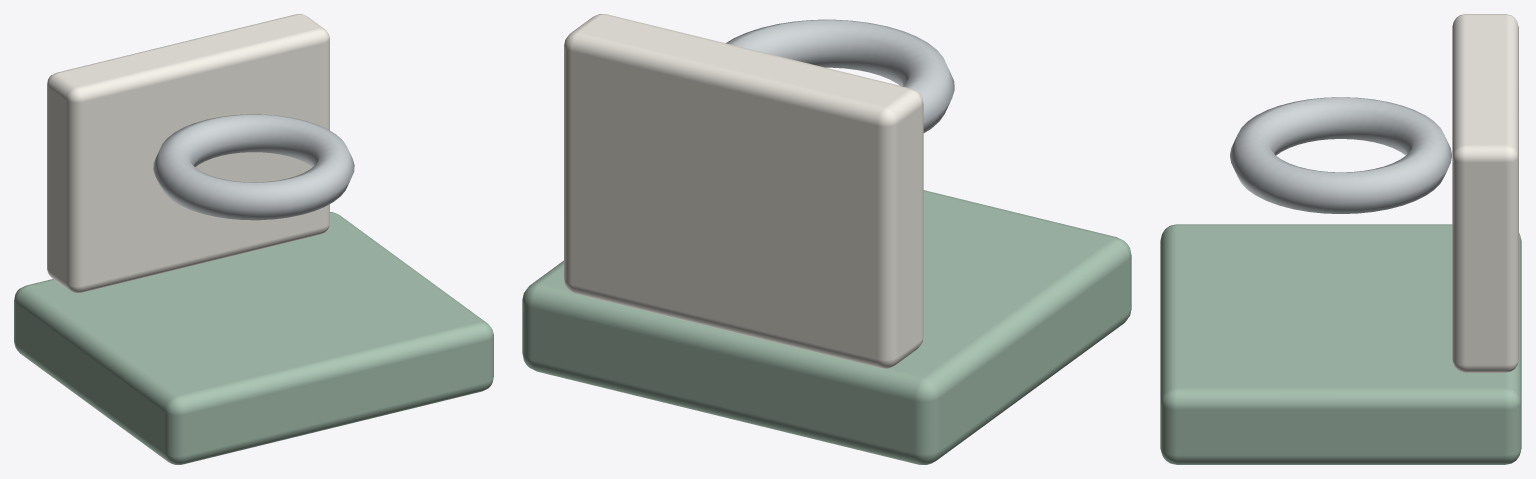
Rendered from hearing-aid-and-audiology-clinic-tympanometer-probe-cr-5fa599fa__31732.glb.
3 views of the same model, side by side, from view 1: azimuth 30°, elevation 25°; view 2: azimuth 150°, elevation 25°; view 3: azimuth 270°, elevation 25° (orthographic). The views are drawn at different scales.
Visible parts, largest first — view 1: tympanometer-probe-cradle; view 2: tympanometer-probe-cradle; view 3: tympanometer-probe-cradle.
Part boxes in pixels (bbox=[...]): tympanometer-probe-cradle: bbox=[14, 14, 493, 464]; tympanometer-probe-cradle: bbox=[522, 14, 1131, 464]; tympanometer-probe-cradle: bbox=[1160, 14, 1521, 464].
Bounding box in the file's own units: 0.075 × 0.06 × 0.065.
